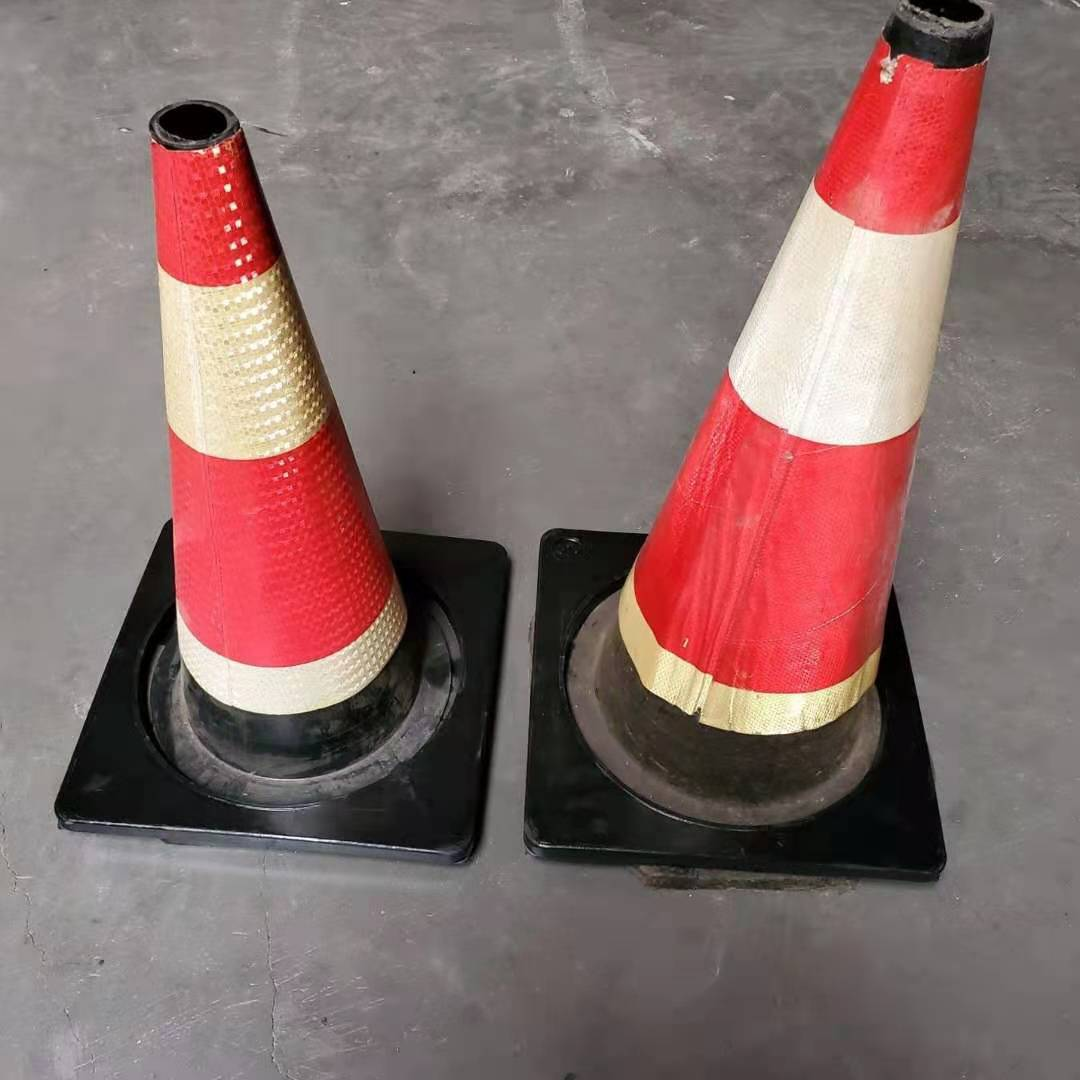traffic_cone: (518, 7, 998, 906), (39, 78, 502, 874)
